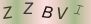B: (41, 5, 54, 19)
I: (73, 4, 84, 16)
V: (56, 6, 69, 20)
Z: (2, 5, 14, 20), (24, 1, 35, 16)
